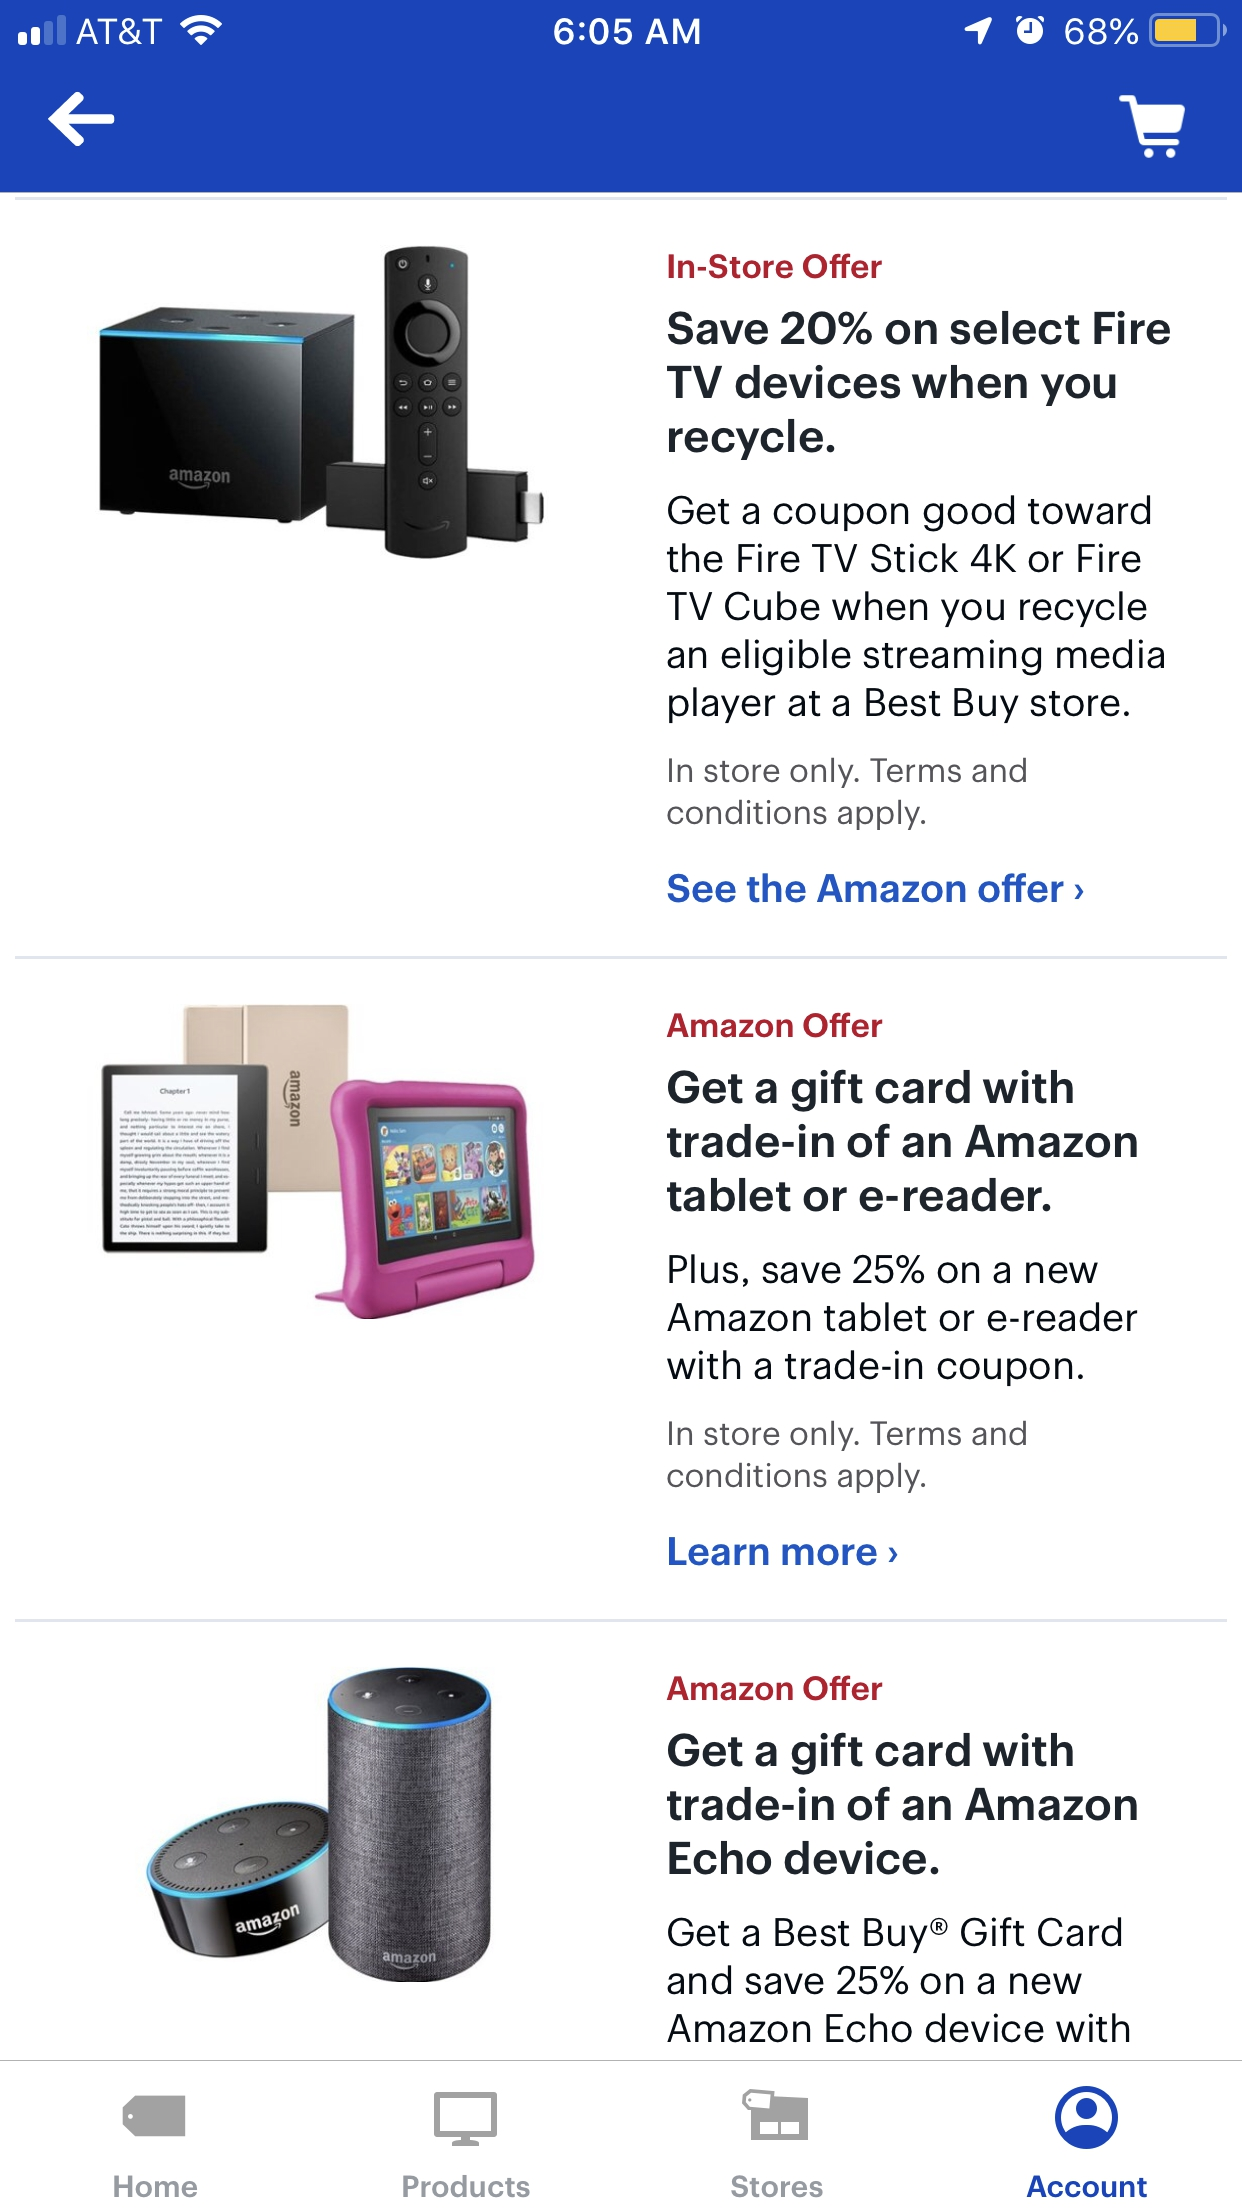Icon: (1118, 96, 1186, 161), (1055, 2087, 1119, 2150), (49, 93, 115, 149), (123, 2094, 187, 2137), (1074, 884, 1084, 899), (889, 1547, 898, 1563)
Image: (99, 246, 546, 561), (102, 1004, 535, 1321), (146, 1667, 493, 1984), (434, 2093, 497, 2147), (742, 2088, 808, 2140)
Text: (667, 494, 1165, 725), (667, 311, 1171, 463), (667, 1069, 1137, 1213), (667, 1732, 1137, 1876), (667, 1254, 1137, 1388), (666, 1915, 1130, 2044), (667, 757, 1027, 831), (667, 1419, 1027, 1494), (667, 873, 1065, 904), (669, 1538, 878, 1567), (666, 1674, 884, 1701), (667, 1011, 884, 1039), (667, 253, 883, 281), (403, 2175, 531, 2197), (1027, 2175, 1148, 2197), (731, 2175, 823, 2197), (115, 2175, 199, 2197)
UpperTaskBar: (2, 2, 1242, 49)
